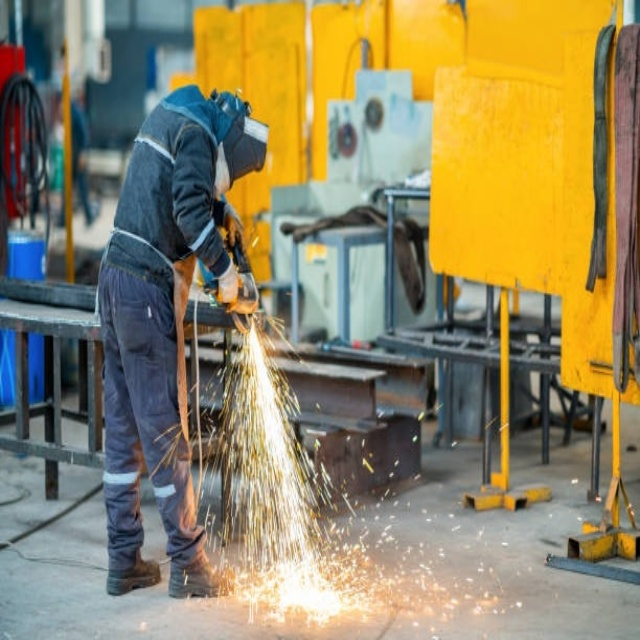Guantes: (214, 253, 242, 307)
